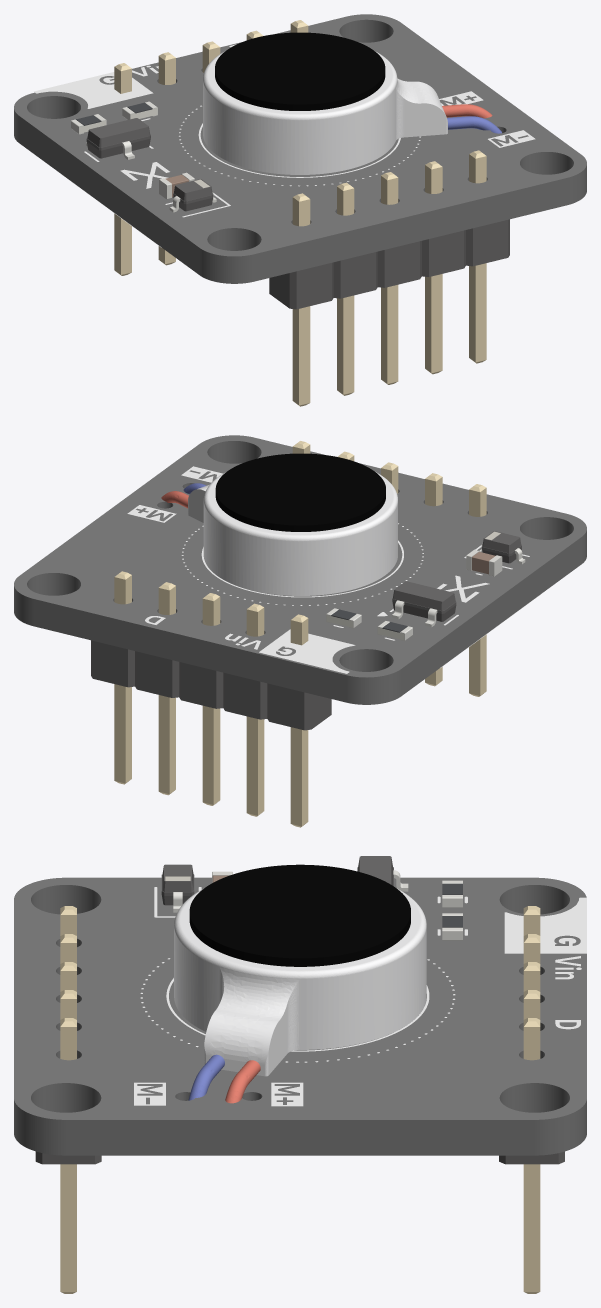
3 renders of one model, top to bottom at view 1: azimuth 30°, elevation 25°; view 2: azimuth 150°, elevation 25°; view 3: azimuth 270°, elevation 25°, orthographic. The views are drawn at different scales.
Visible parts, largest first — view 1: Node13, Node8, Node2, Node1, Node9, Node4, Node3, Node10, Node11; view 2: Node13, Node2, Node8, Node1, Node9, Node4, Node3; view 3: Node13, Node8, Node9, Node2, Node4, Node1, Node3, Node10, Node11.
Part boxes in pixels (x1,y1,x2,y2): Node13: (14,14,586,283); Node8: (203,51,447,174); Node2: (114,20,486,406); Node1: (86,118,509,309); Node9: (215,32,385,110); Node4: (34,44,535,247); Node3: (71,101,216,212); Node10: (447,116,501,133); Node11: (442,104,492,118); Node13: (14,435,586,704); Node2: (114,441,486,827); Node8: (188,472,397,595); Node1: (91,531,521,730); Node9: (215,453,385,531); Node4: (127,466,540,673); Node3: (326,544,525,641); Node13: (14,877,586,1155); Node8: (174,888,426,1076); Node9: (189,864,410,966); Node2: (60,906,540,1293); Node4: (134,887,586,1106); Node1: (35,856,564,1164); Node3: (173,870,462,940); Node10: (188,1054,224,1100); Node11: (225,1060,260,1103).
Bounding box in the file's own units: 22 × 13.74 × 22.
